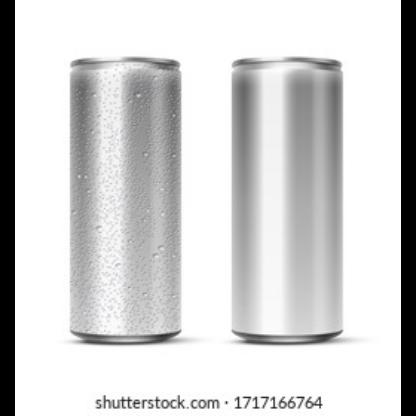Tin_Can: (224, 50, 354, 360), (62, 51, 184, 356)
